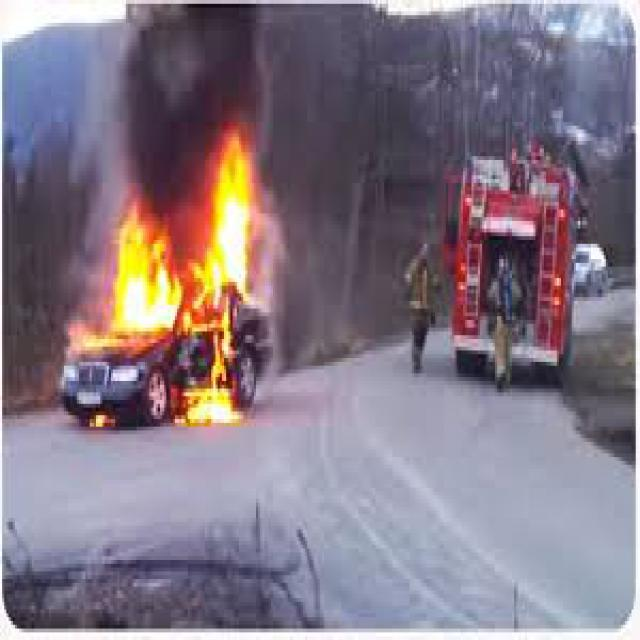Fire: (60, 137, 263, 440)
Smoke: (100, 18, 275, 130)
